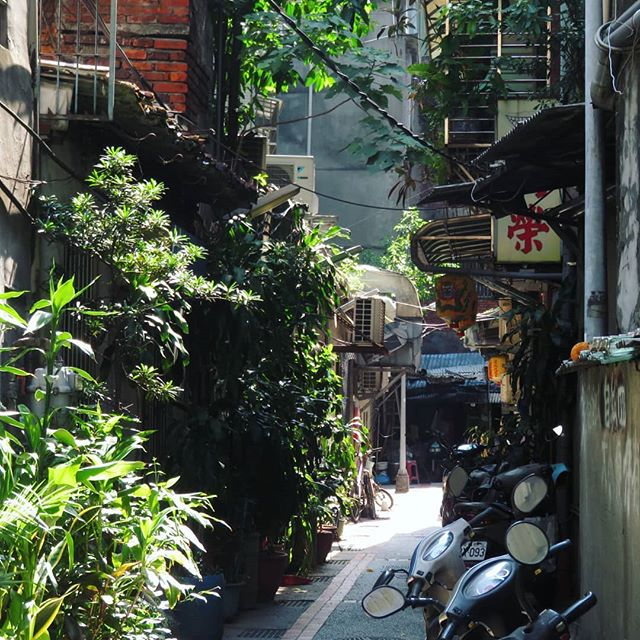building: (434, 27, 640, 597), (1, 1, 364, 138)
motorcycle: (435, 522, 589, 640)
vegetation: (1, 149, 364, 640)
